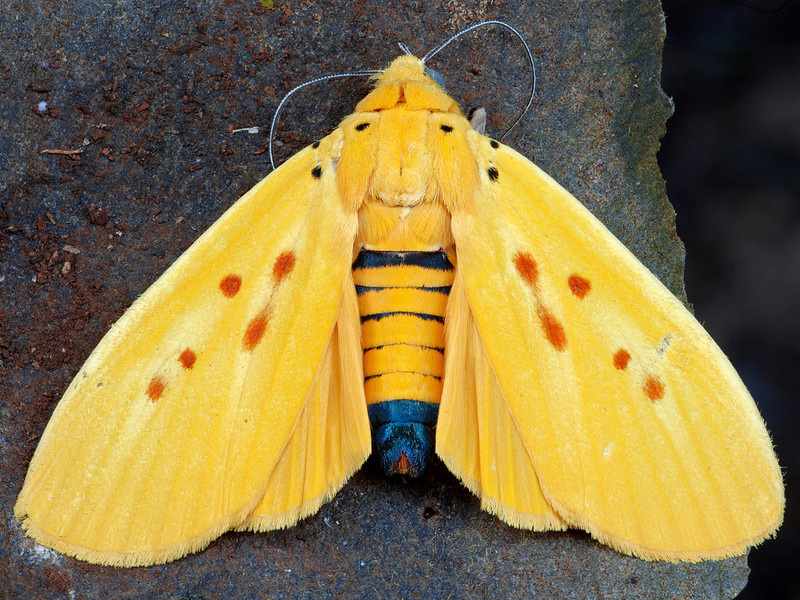Agape chloropyga: (7, 10, 787, 569)
moth: (5, 8, 785, 567)
